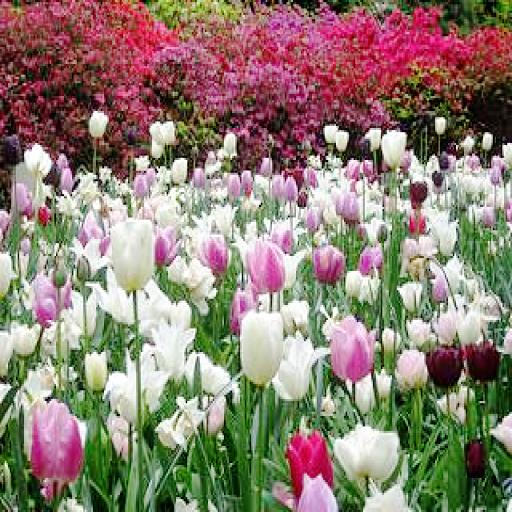tulip: (30, 399, 85, 480), (333, 427, 400, 484), (110, 220, 154, 292), (242, 314, 284, 386), (286, 433, 333, 491), (334, 316, 374, 380), (246, 239, 285, 290), (315, 245, 344, 286), (84, 352, 106, 388)
